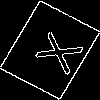X: (25, 25, 84, 77)
